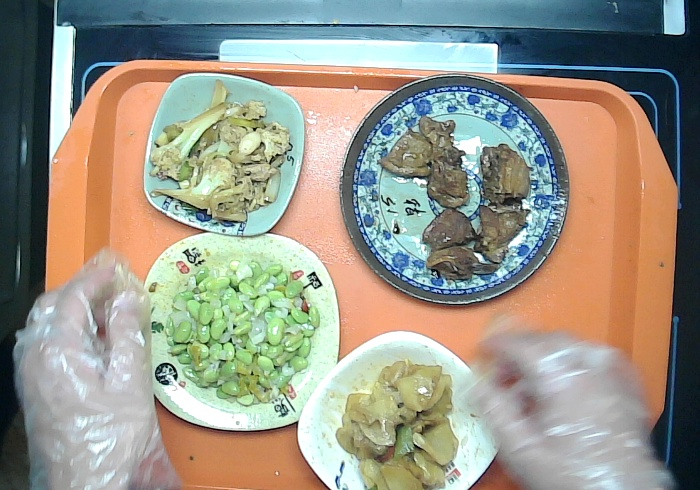NLDX-Bai_Se_Xiao_Fang_Die: (292, 321, 506, 490)
NLDX-Fu_Zi_Fang_Die: (133, 229, 349, 441)
NLDX-Qing_Hua_Xiao_Fang_Die: (138, 69, 308, 241)
NLDX-Qing_Hua_Yuan_Die: (328, 72, 580, 313)
